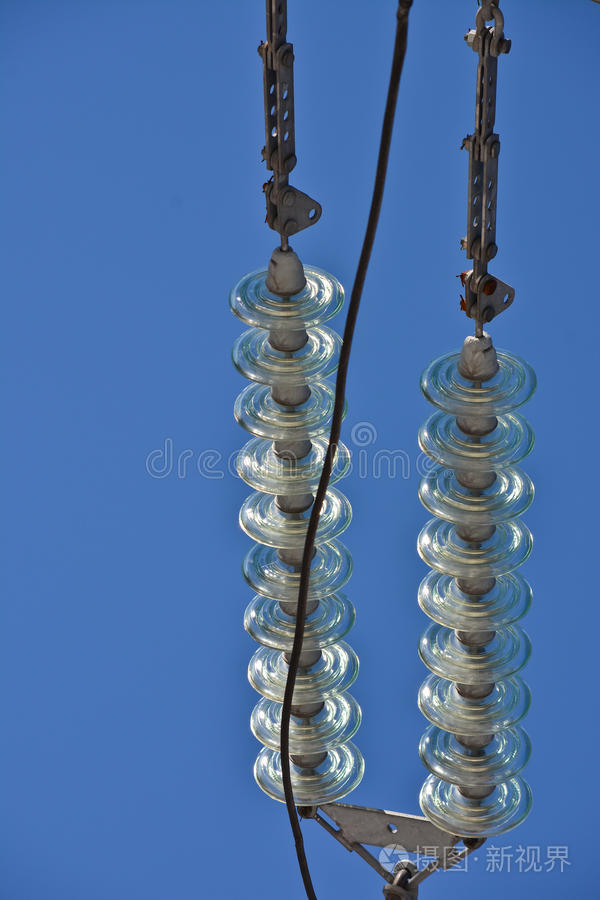insulator: (226, 266, 371, 806), (415, 349, 538, 840)
